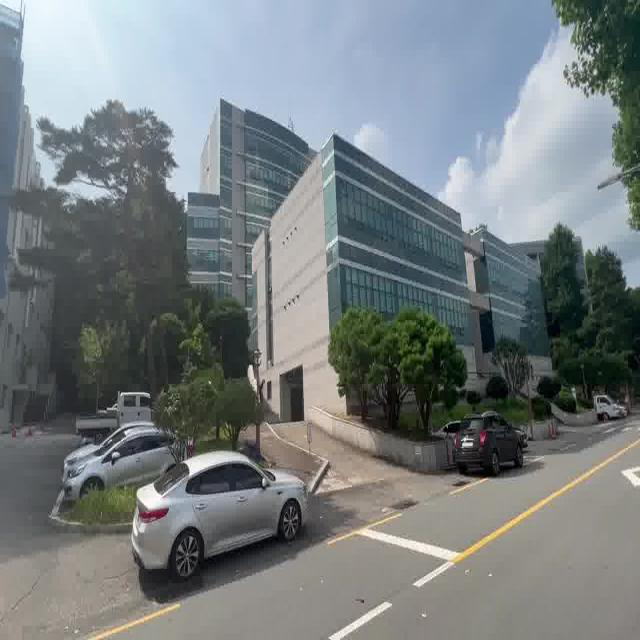building: (190, 118, 550, 360)
